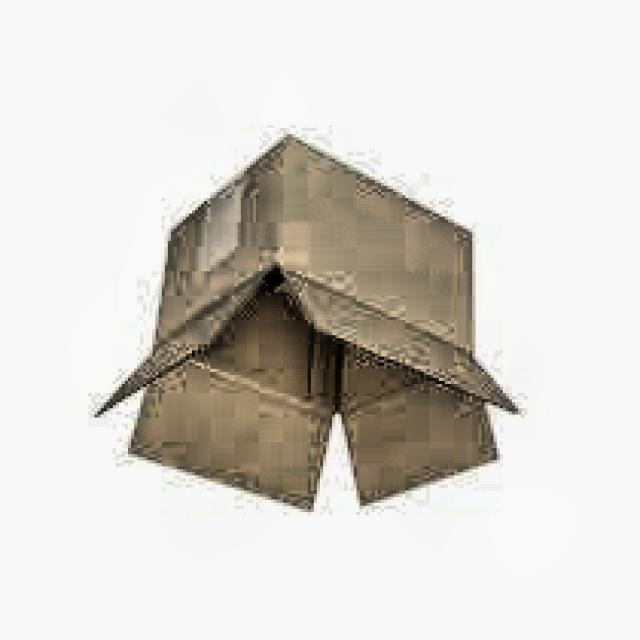cardboard: (91, 134, 522, 515)
